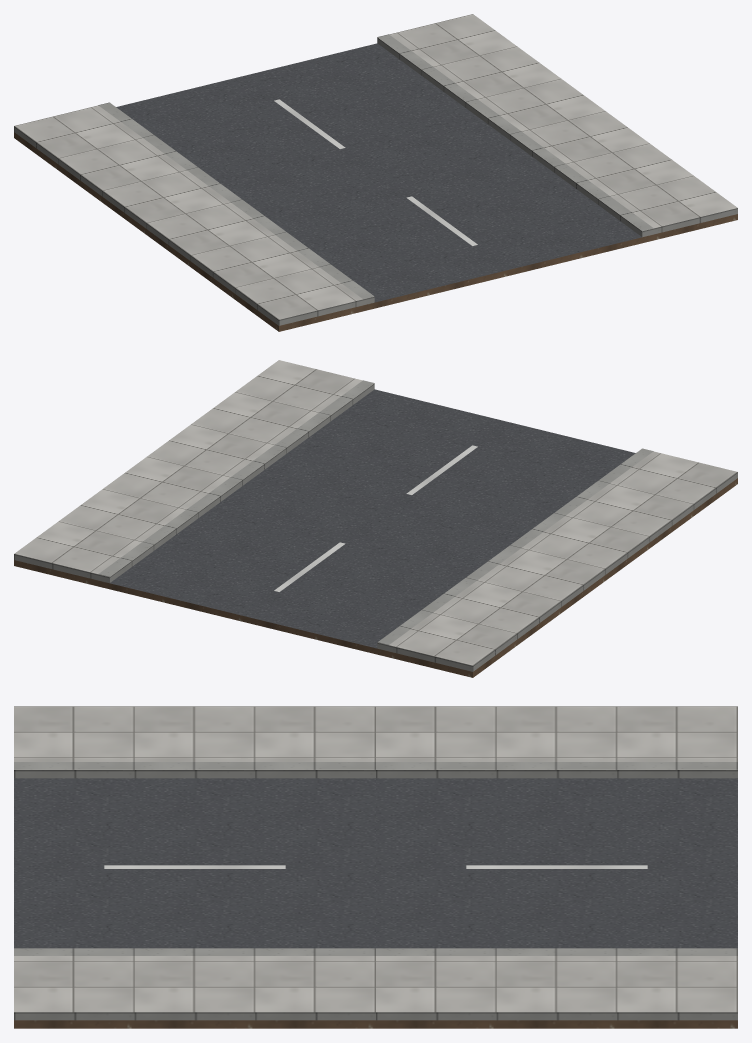
File: road_straight.fbx
The picture shows the model from 3 angles, top to bottom: view 1: azimuth 30°, elevation 25°; view 2: azimuth 150°, elevation 25°; view 3: azimuth 270°, elevation 25°; orthographic projection. The views are drawn at different scales.
Parts seen in each view (by area): view 1: road_straight; view 2: road_straight; view 3: road_straight.
Boxes of the visible parts, x1,y1,x2,y2 form: road_straight: (14, 14, 737, 331); road_straight: (14, 360, 737, 677); road_straight: (14, 706, 737, 1028).
Bounding box in the file's own units: 12 × 0.306 × 12.
Materials: 1 (1 with a texture image).
